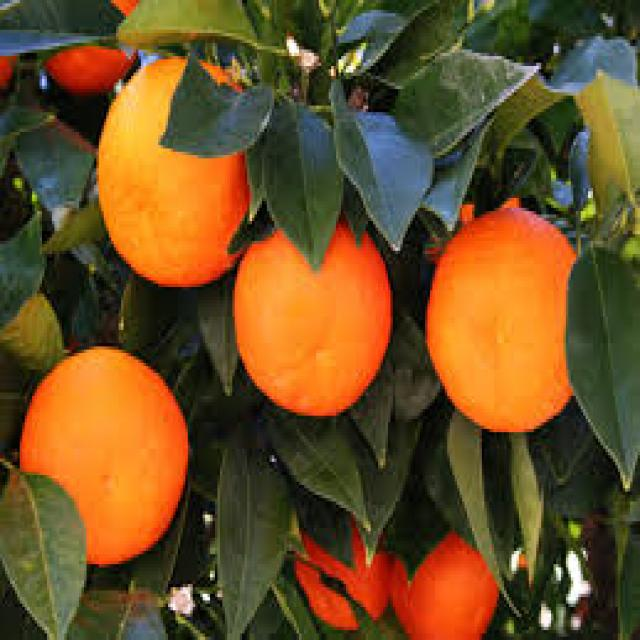orange: (26, 346, 186, 564), (425, 206, 570, 432), (232, 224, 391, 414), (96, 60, 233, 278), (390, 540, 493, 638)
